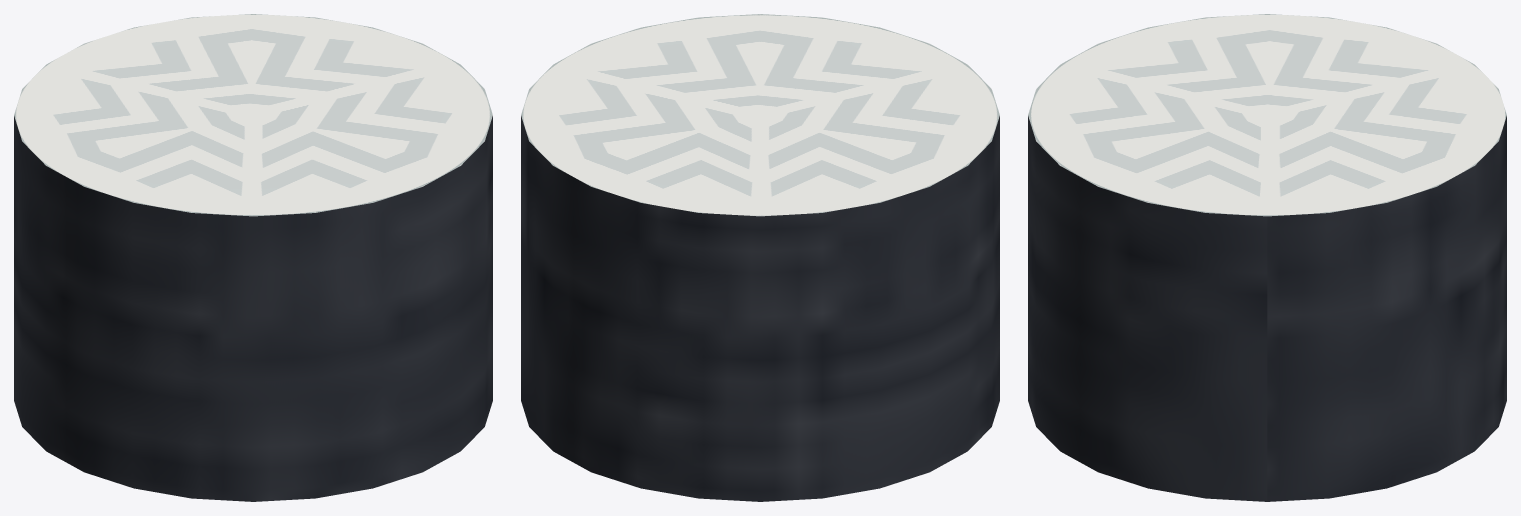
File: atom4.dae
3 renders of one model, left to right at view 1: azimuth 30°, elevation 25°; view 2: azimuth 150°, elevation 25°; view 3: azimuth 270°, elevation 25°, orthographic.
Parts seen in each view (by area): view 1: SketchUp (×2); view 2: SketchUp (×2); view 3: SketchUp (×2).
Part boxes in pixels (x1,y1,x2,y2): SketchUp (×2): (14, 14, 492, 501); SketchUp (×2): (521, 14, 999, 501); SketchUp (×2): (1028, 14, 1506, 501).
Size of the model in its own units: 2.99 by 2.99 by 1.97.
2 materials, 2 textured.
